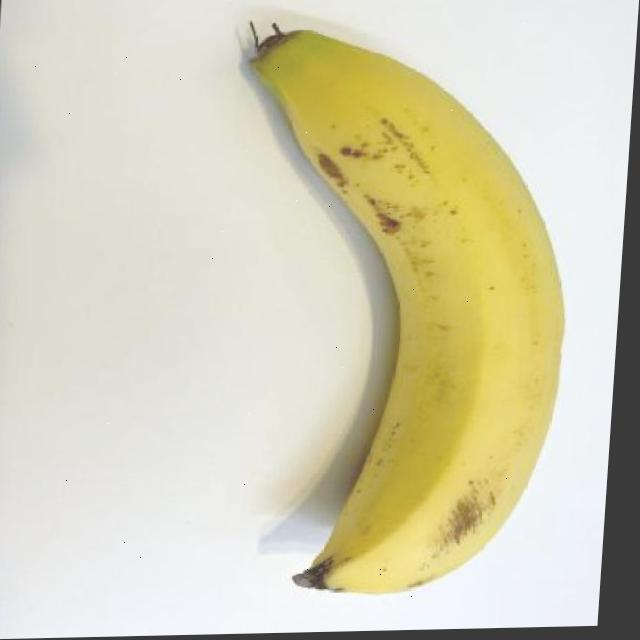banana: (216, 24, 588, 597)
